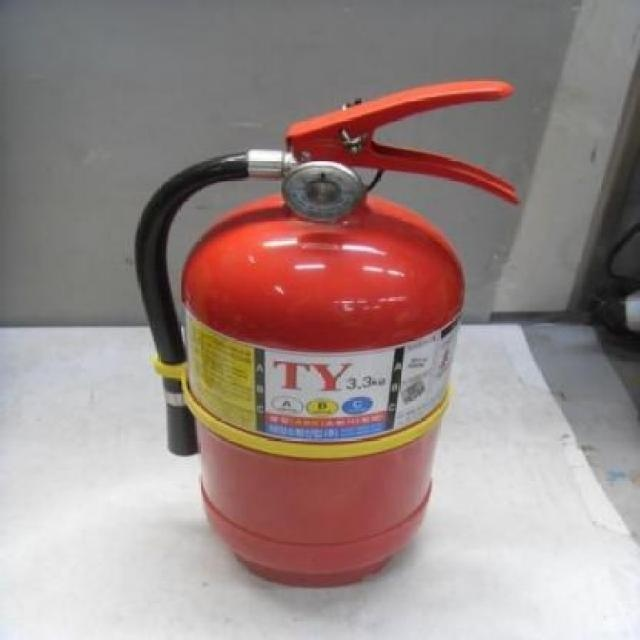fire extinguisher: (133, 80, 519, 588)
